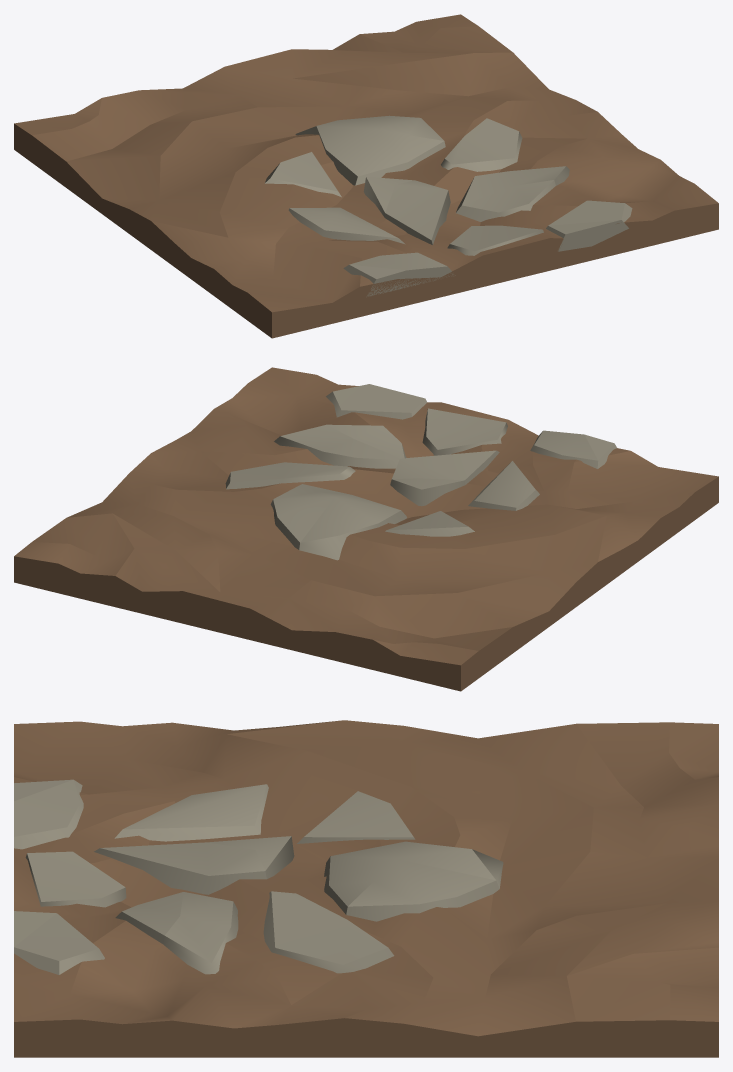
Rendered from Ground_Stone_Path_Ending_U.glb.
3 views of the same model, one above another, from view 1: azimuth 30°, elevation 25°; view 2: azimuth 150°, elevation 25°; view 3: azimuth 270°, elevation 25° (orthographic). The views are drawn at different scales.
Parts seen in each view (by area): view 1: Ground_Stone_Path_Ending_U; view 2: Ground_Stone_Path_Ending_U; view 3: Ground_Stone_Path_Ending_U.
Part boxes in pixels (x1=…): Ground_Stone_Path_Ending_U: x1=14, y1=14, x2=718, y2=338; Ground_Stone_Path_Ending_U: x1=14, y1=367, x2=718, y2=691; Ground_Stone_Path_Ending_U: x1=14, y1=720, x2=718, y2=1057.
Size of the model in its own units: 1.47 by 0.1501 by 1.47.
